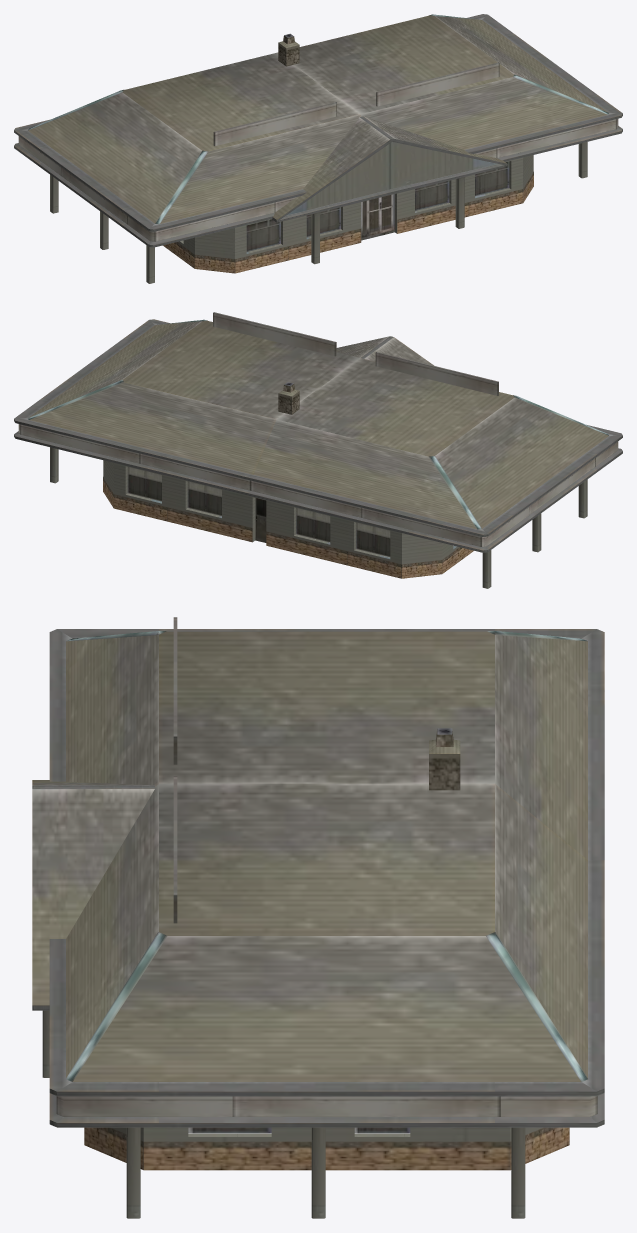
The model's file is rural-wood-4.lod1.glb.
3 views of the same model, one above another, from view 1: azimuth 30°, elevation 25°; view 2: azimuth 150°, elevation 25°; view 3: azimuth 270°, elevation 25° (orthographic). The views are drawn at different scales.
Visible parts, largest first — view 1: Rural_WoodenBuilding_4_Rural_Housetrim_1_0, Rural_WoodenBuilding_4_Rural_Facade_FLR_2_0, Rural_WoodenBuilding_4_Rural_Walltrim_1_0; view 2: Rural_WoodenBuilding_4_Rural_Housetrim_1_0, Rural_WoodenBuilding_4_Rural_Facade_FLR_2_0, Rural_WoodenBuilding_4_Rural_Walltrim_1_0; view 3: Rural_WoodenBuilding_4_Rural_Housetrim_1_0, Rural_WoodenBuilding_4_Rural_Facade_FLR_2_0, Rural_WoodenBuilding_4_Rural_Walltrim_1_0.
Part boxes in pixels (x1=…): Rural_WoodenBuilding_4_Rural_Housetrim_1_0: x1=14, y1=14, x2=622, y2=273; Rural_WoodenBuilding_4_Rural_Facade_FLR_2_0: x1=18, y1=14, x2=618, y2=251; Rural_WoodenBuilding_4_Rural_Walltrim_1_0: x1=50, y1=142, x2=587, y2=283; Rural_WoodenBuilding_4_Rural_Housetrim_1_0: x1=14, y1=319, x2=622, y2=578; Rural_WoodenBuilding_4_Rural_Facade_FLR_2_0: x1=18, y1=312, x2=618, y2=556; Rural_WoodenBuilding_4_Rural_Walltrim_1_0: x1=50, y1=447, x2=587, y2=588; Rural_WoodenBuilding_4_Rural_Housetrim_1_0: x1=32, y1=629, x2=604, y2=1170; Rural_WoodenBuilding_4_Rural_Facade_FLR_2_0: x1=56, y1=617, x2=597, y2=1133; Rural_WoodenBuilding_4_Rural_Walltrim_1_0: x1=42, y1=1010, x2=542, y2=1218.
Size of the model in its own units: 27.73 by 7.64 by 14.49.
3 materials, 3 textured.
